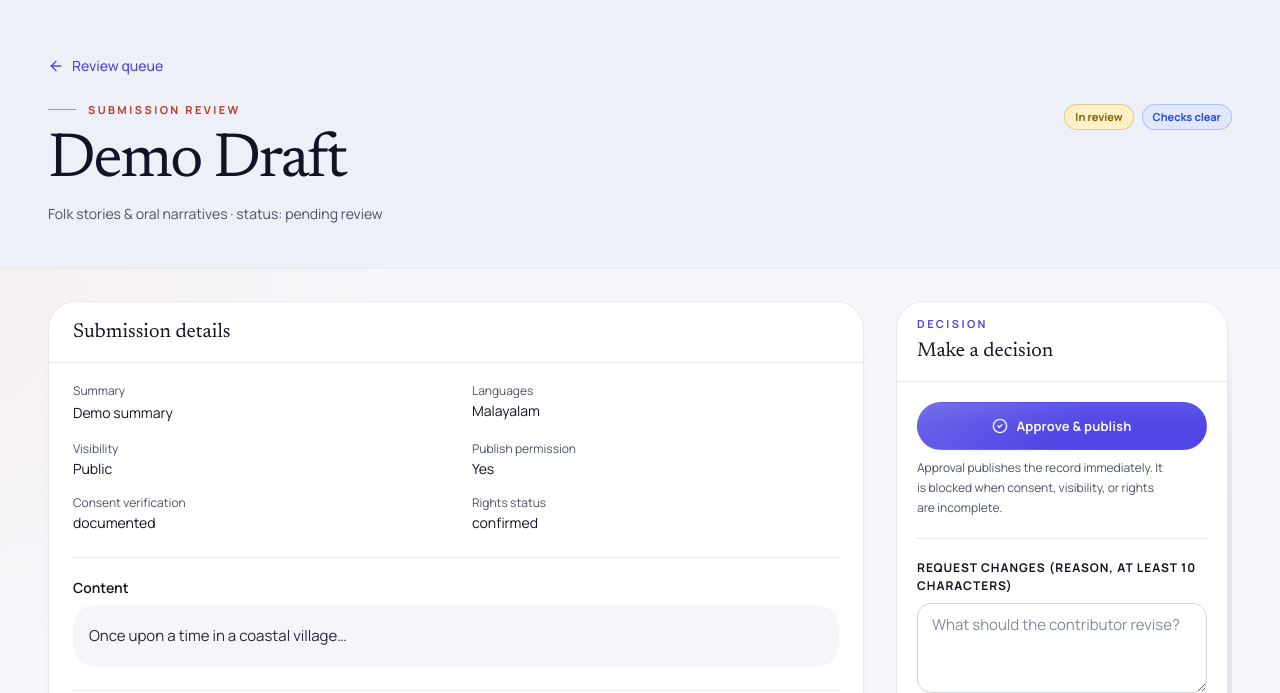
Test: ModerationSubmissionPage › approves and publishes a submission
Click the button "Approve & publish". click: [1062, 426]
box: x1=917 y1=402 x2=1207 y2=450
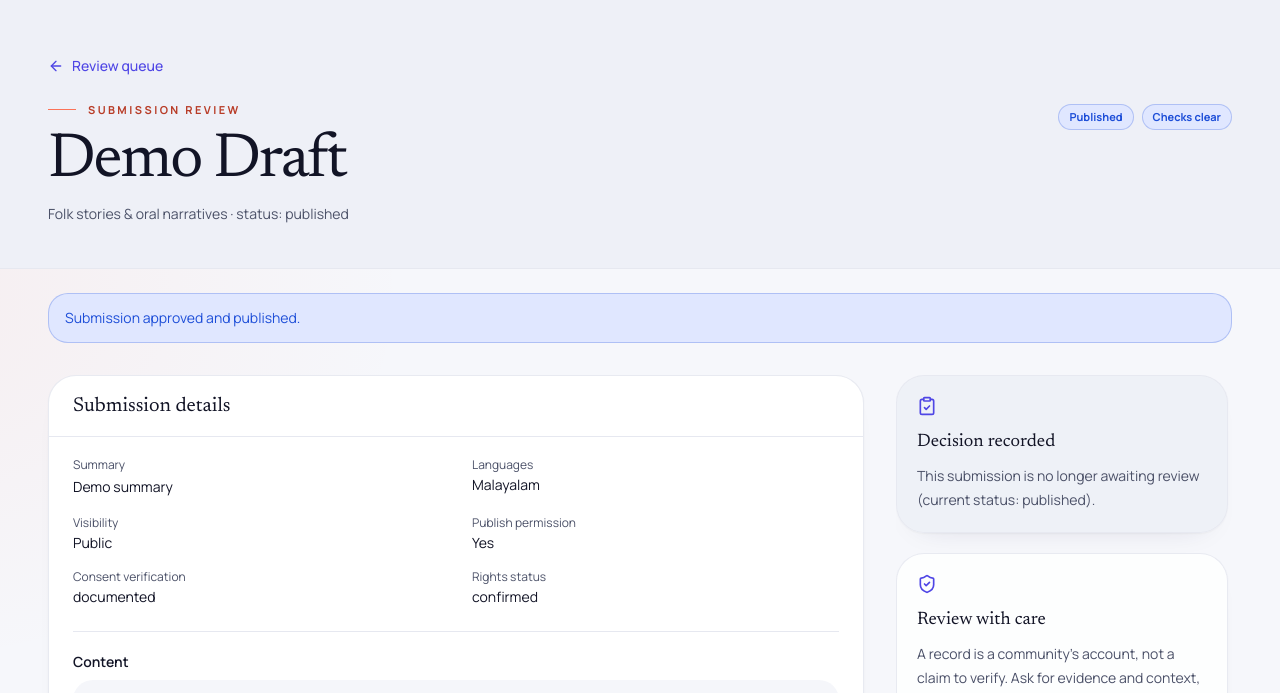
expect the text "Submission approved and published." is shown: met, box x1=48 y1=294 x2=1232 y2=344
expect the text "no longer awaiting review" is shown: met, box x1=917 y1=466 x2=1200 y2=510
expect the button "Approve & publish" is gone: met
